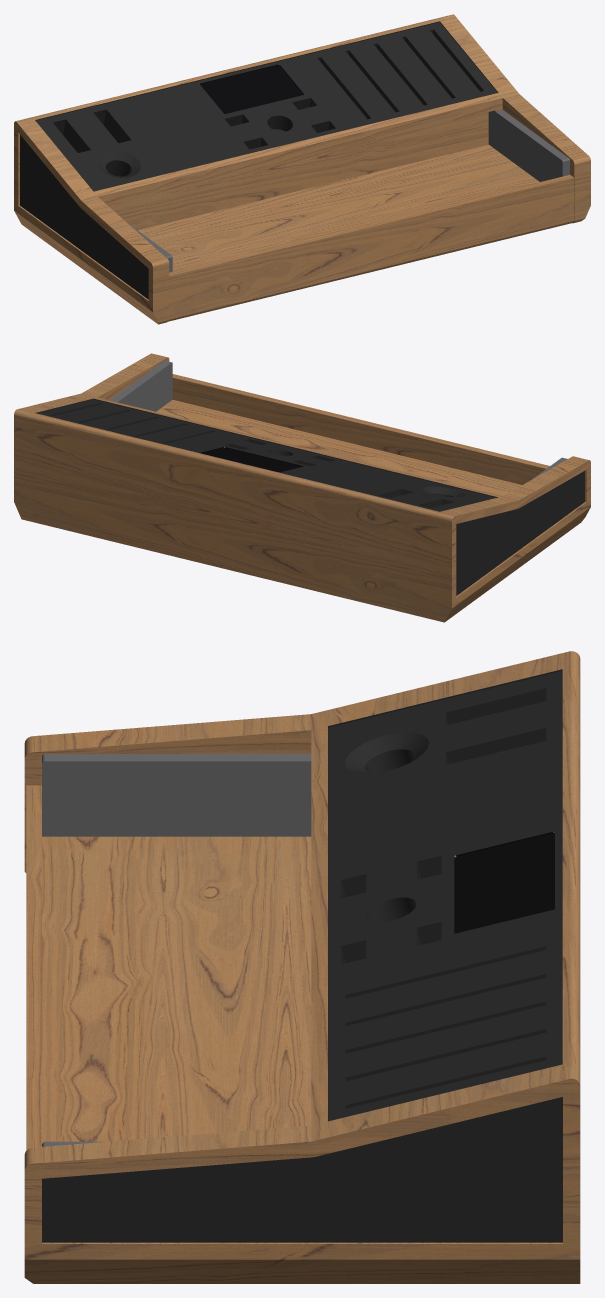
The model's file is midi_housing.glb.
3 views of the same model, one above another, from view 1: azimuth 30°, elevation 25°; view 2: azimuth 150°, elevation 25°; view 3: azimuth 270°, elevation 25° (orthographic). The views are drawn at different scales.
Bounding box in the file's own units: 0.5825 × 0.135 × 0.32.
4 materials, 1 textured.
